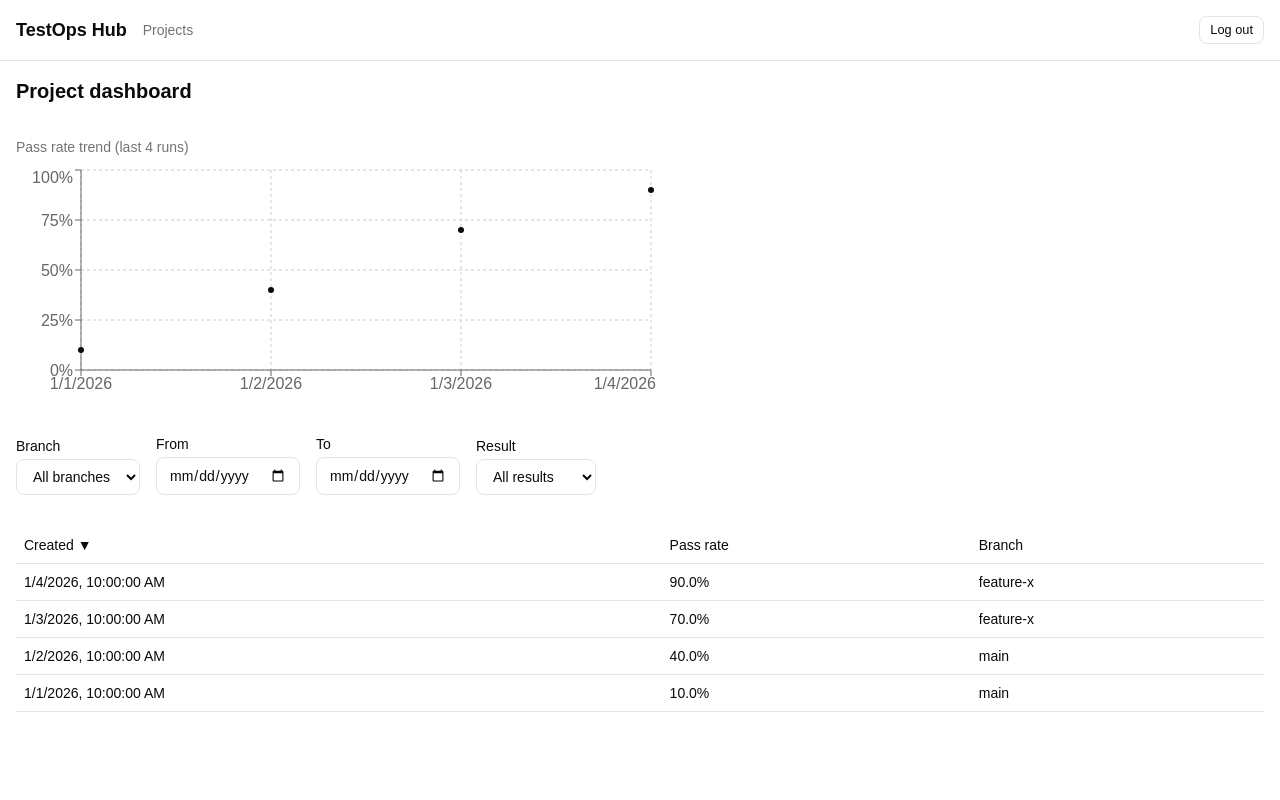
Test: project dashboard: run history table › navigates to the run detail page when a row is clicked
Click the row "1/4/2026, 10:00:00 AM 90.0% feature-x" at (640, 582), box [16, 564, 1264, 600]
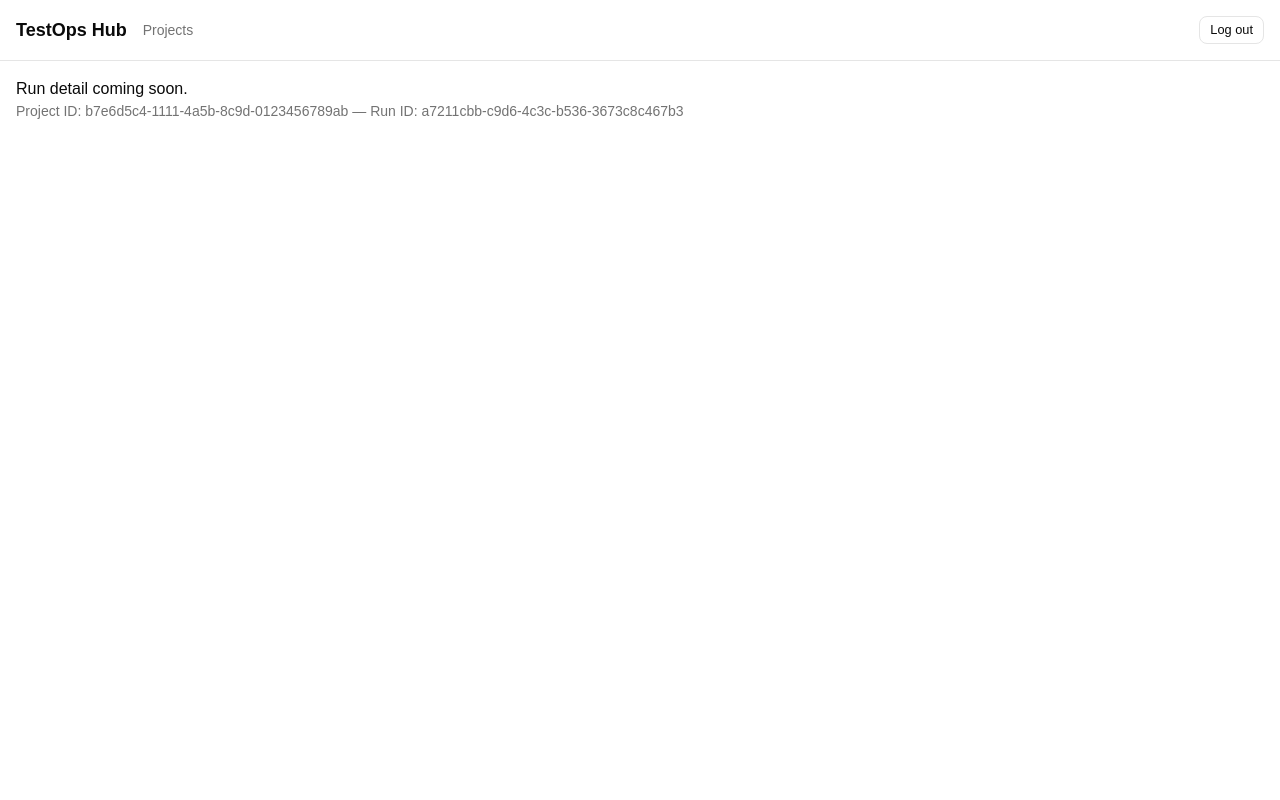
Expected: the text "Run detail coming soon." is shown, [16, 80, 188, 97]
